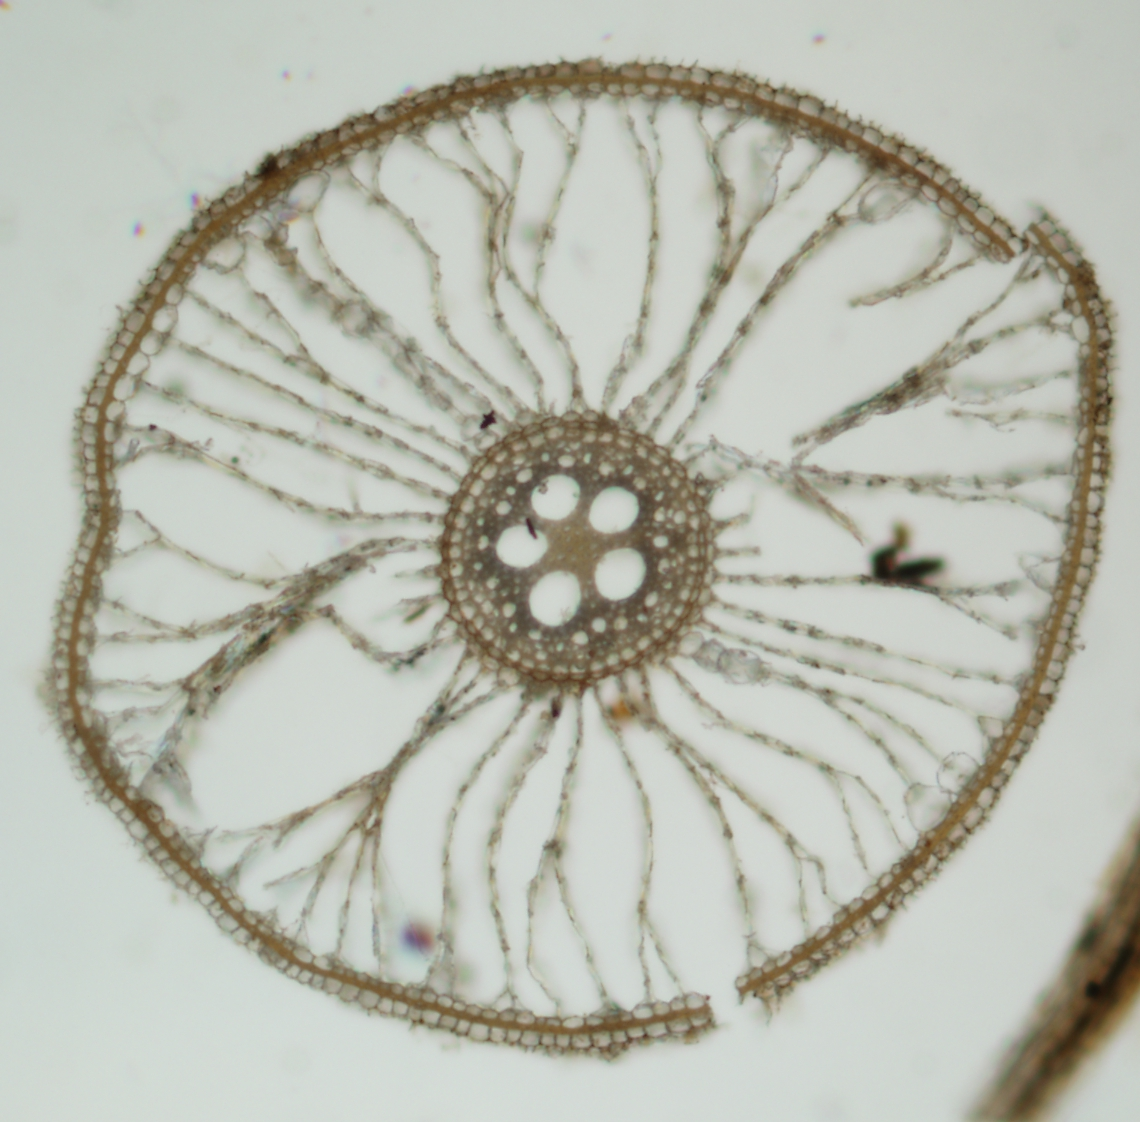lm: (529, 570, 581, 626), (594, 547, 645, 599), (588, 486, 639, 533), (495, 525, 548, 568), (531, 474, 580, 520)
